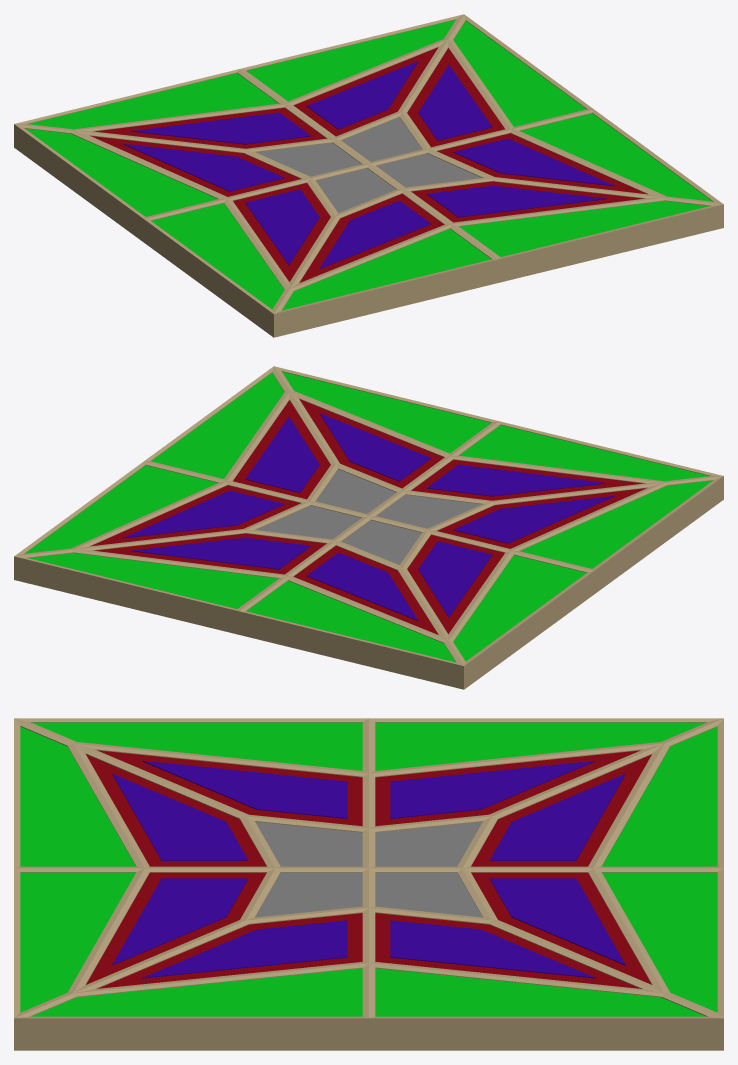
Rendered from BossTempleFloor.fbx.
3 renders of one model, top to bottom at view 1: azimuth 30°, elevation 25°; view 2: azimuth 150°, elevation 25°; view 3: azimuth 270°, elevation 25°, orthographic. The views are drawn at different scales.
Visible parts, largest first — view 1: Box001; view 2: Box001; view 3: Box001.
Boxes of the visible parts, bbox=[...] form: Box001: bbox=[14, 14, 723, 337]; Box001: bbox=[14, 366, 723, 689]; Box001: bbox=[14, 718, 723, 1050].
Size of the model in its own units: 4000 by 200 by 4000.
